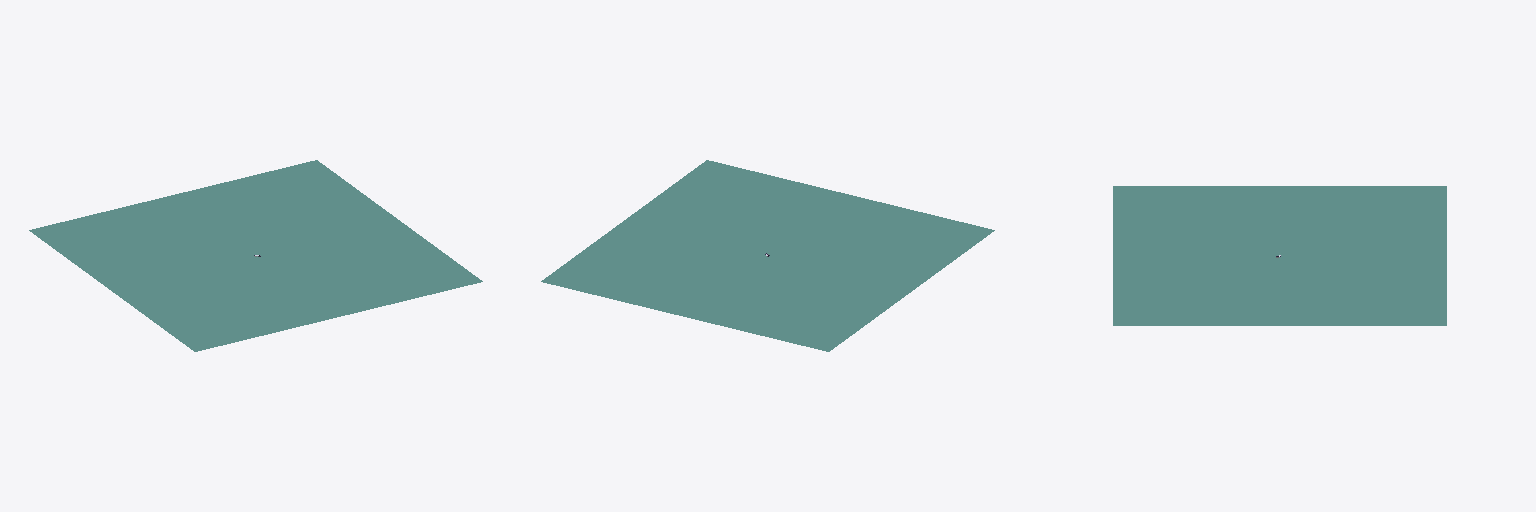
Rendered from level1.obj.
The picture shows the model from 3 angles: view 1: azimuth 30°, elevation 25°; view 2: azimuth 150°, elevation 25°; view 3: azimuth 270°, elevation 25°; orthographic projection.
Visible parts, largest first — view 1: Plane_Plane.001; view 2: Plane_Plane.001; view 3: Plane_Plane.001.
Boxes of the visible parts, x1,y1,x2,y2 form: Plane_Plane.001: [29, 160, 482, 351]; Plane_Plane.001: [541, 160, 994, 351]; Plane_Plane.001: [1113, 186, 1446, 325].
Size of the model in its own units: 1000 by 2.4 by 1000.